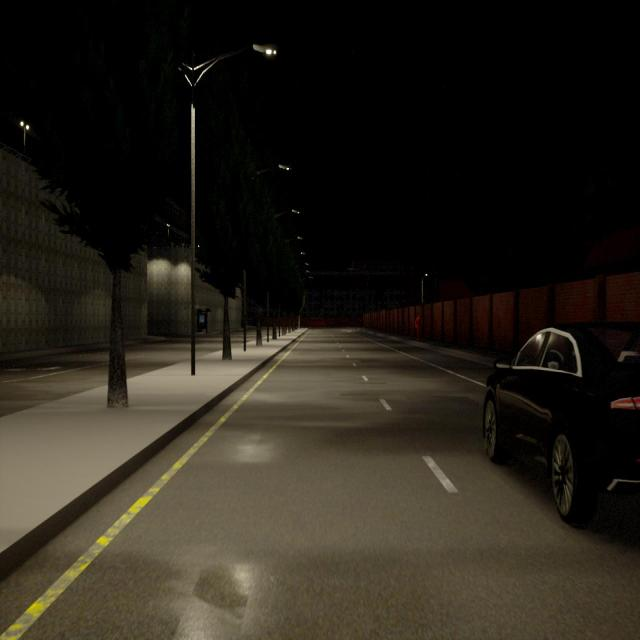Pedestrian: (415, 313, 422, 341)
Vehicle: (484, 326, 640, 520), (306, 317, 325, 327)
